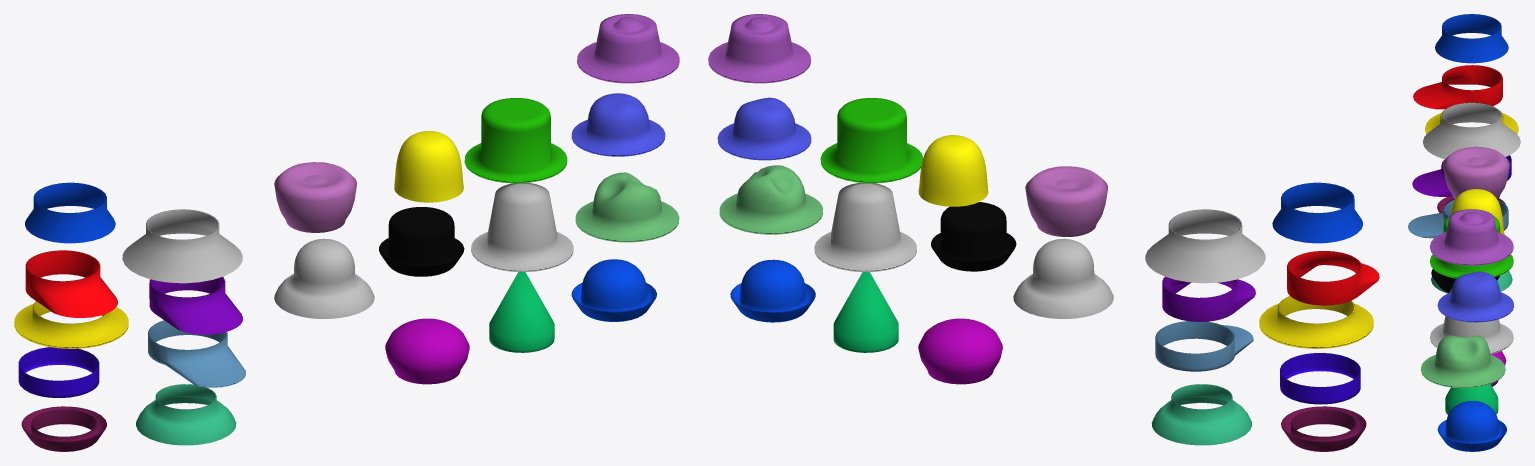
File: coloredhats.glb
3 renders of one model, left to right at view 1: azimuth 30°, elevation 25°; view 2: azimuth 150°, elevation 25°; view 3: azimuth 270°, elevation 25°, orthographic. The views are drawn at different scales.
Visible parts, largest first — view 1: PM3D_Gear3D3_4, PM3D_Gear3D3_5, PM3D_Gear3D3, PM3D_Gear3D4_1, PM3D_Gear3D3_6, PM3D_Gear3D3_9, PM3D_Gear3D3_11, PM3D_Gear3D5, PM3D_Gear3D5_3, PM3D_Gear3D4_2, PM3D_Gear3D3_8, PM3D_Gear3D3_3 (+9 smaller); view 2: PM3D_Gear3D3_4, PM3D_Gear3D3_5, PM3D_Gear3D3, PM3D_Gear3D4_1, PM3D_Gear3D3_6, PM3D_Gear3D3_9, PM3D_Gear3D3_11, PM3D_Gear3D5_3, PM3D_Gear3D4_2, PM3D_Gear3D3_8, PM3D_Gear3D3_3, PM3D_Gear3D4 (+9 smaller); view 3: PM3D_Gear3D3, PM3D_Gear3D3_6, PM3D_Gear3D3_9, PM3D_Gear3D3_3, PM3D_Gear3D4, PM3D_Gear3D5, PM3D_Gear3D3_11, PM3D_Gear3D5_2, PM3D_Gear3D3_5, PM3D_Gear3D3_4, PM3D_Gear3D3_1, PM3D_Gear3D3_10 (+6 smaller).
Boxes of the visible parts, box(x1,y1,x2,y2) form: PM3D_Gear3D3_4: box(464, 98, 567, 183); PM3D_Gear3D3_5: box(471, 182, 573, 271); PM3D_Gear3D3: box(122, 209, 242, 283); PM3D_Gear3D4_1: box(274, 238, 374, 318); PM3D_Gear3D3_6: box(577, 14, 679, 83); PM3D_Gear3D3_9: box(575, 172, 679, 242); PM3D_Gear3D3_11: box(274, 162, 356, 232); PM3D_Gear3D5: box(25, 250, 117, 317); PM3D_Gear3D5_3: box(379, 207, 464, 276); PM3D_Gear3D4_2: box(136, 384, 236, 445); PM3D_Gear3D3_8: box(385, 318, 469, 384); PM3D_Gear3D3_3: box(571, 93, 665, 156); PM3D_Gear3D3_4: box(820, 98, 922, 183); PM3D_Gear3D3_5: box(814, 182, 916, 271); PM3D_Gear3D3: box(1145, 209, 1265, 283); PM3D_Gear3D4_1: box(1013, 238, 1113, 318); PM3D_Gear3D3_6: box(708, 14, 810, 83); PM3D_Gear3D3_9: box(719, 165, 822, 234); PM3D_Gear3D3_11: box(1025, 166, 1107, 236); PM3D_Gear3D5_3: box(931, 202, 1016, 271); PM3D_Gear3D4_2: box(1151, 384, 1252, 445); PM3D_Gear3D3_8: box(918, 318, 1002, 384); PM3D_Gear3D3_3: box(717, 97, 811, 160); PM3D_Gear3D4: box(1272, 182, 1362, 243); PM3D_Gear3D3: box(1423, 102, 1520, 159); PM3D_Gear3D3_6: box(1430, 209, 1513, 265); PM3D_Gear3D3_9: box(1421, 335, 1505, 388); PM3D_Gear3D3_3: box(1437, 271, 1513, 322); PM3D_Gear3D4: box(1435, 14, 1508, 63); PM3D_Gear3D5: box(1413, 65, 1502, 109); PM3D_Gear3D3_11: box(1442, 146, 1509, 199); PM3D_Gear3D5_2: box(1437, 401, 1506, 451); PM3D_Gear3D3_5: box(1430, 289, 1513, 354); PM3D_Gear3D3_4: box(1430, 216, 1513, 278); PM3D_Gear3D3_1: box(1408, 199, 1508, 238); PM3D_Gear3D3_10: box(1450, 189, 1504, 234).
Bounding box in the file's own units: 2.91 × 1.29 × 0.5371.
